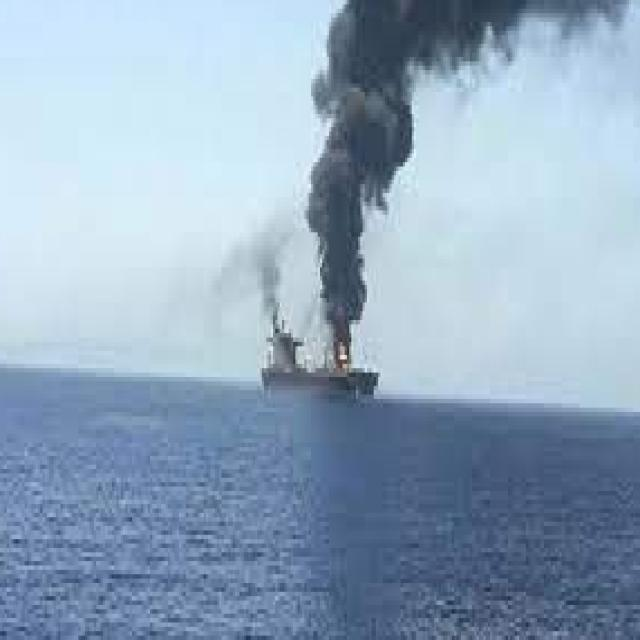cargoship: (254, 277, 397, 405)
